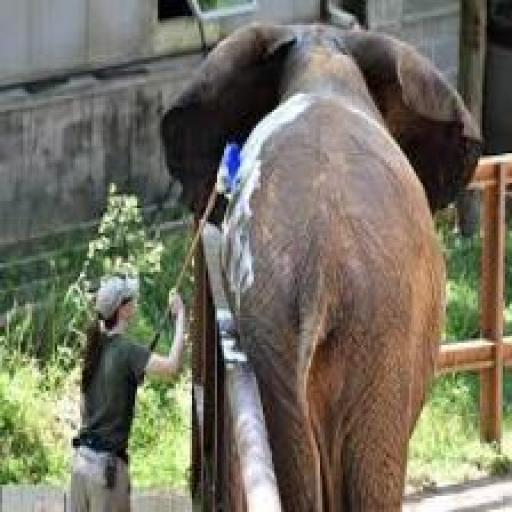Elephant: (128, 0, 506, 512)
